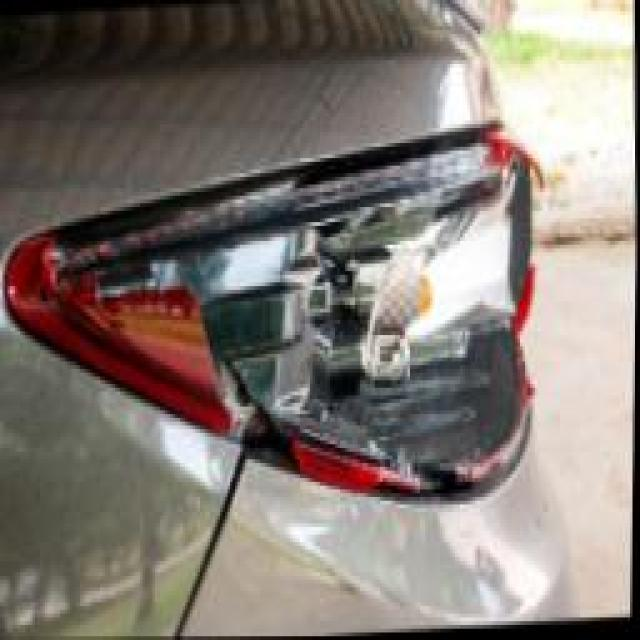Light: (50, 151, 544, 482)
